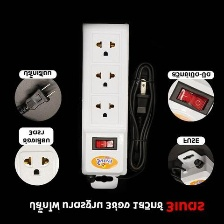three_eye_plug: (76, 19, 131, 179), (15, 143, 58, 186), (172, 146, 214, 188)
